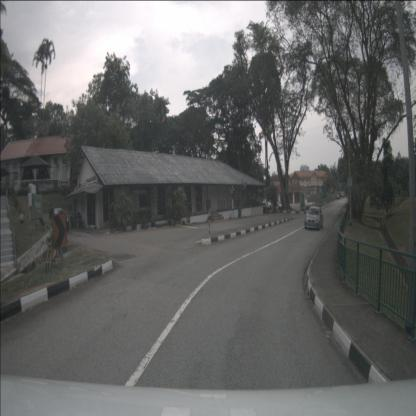human-pedestrian-adult: (248, 191, 252, 206), (258, 193, 260, 205)
vehicle-bicycle: (45, 225, 60, 272)
vehicle-car: (49, 207, 69, 230), (305, 206, 323, 230), (267, 200, 283, 210), (259, 202, 271, 215), (336, 192, 340, 200)
